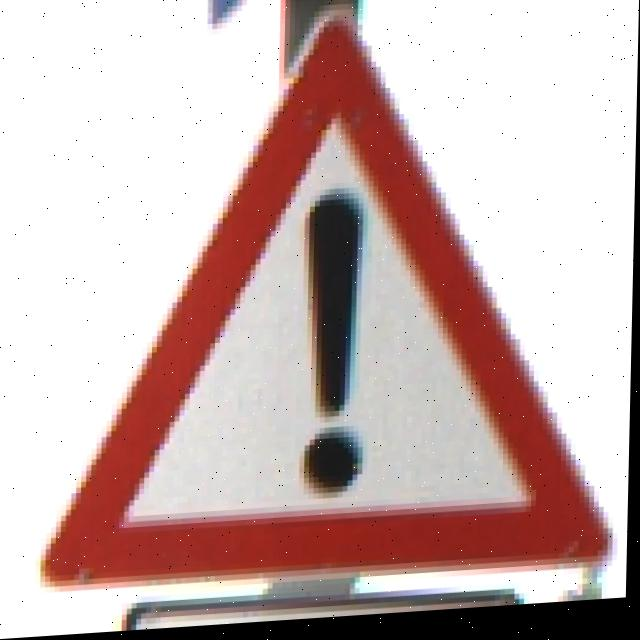warning: (103, 1, 639, 594)
